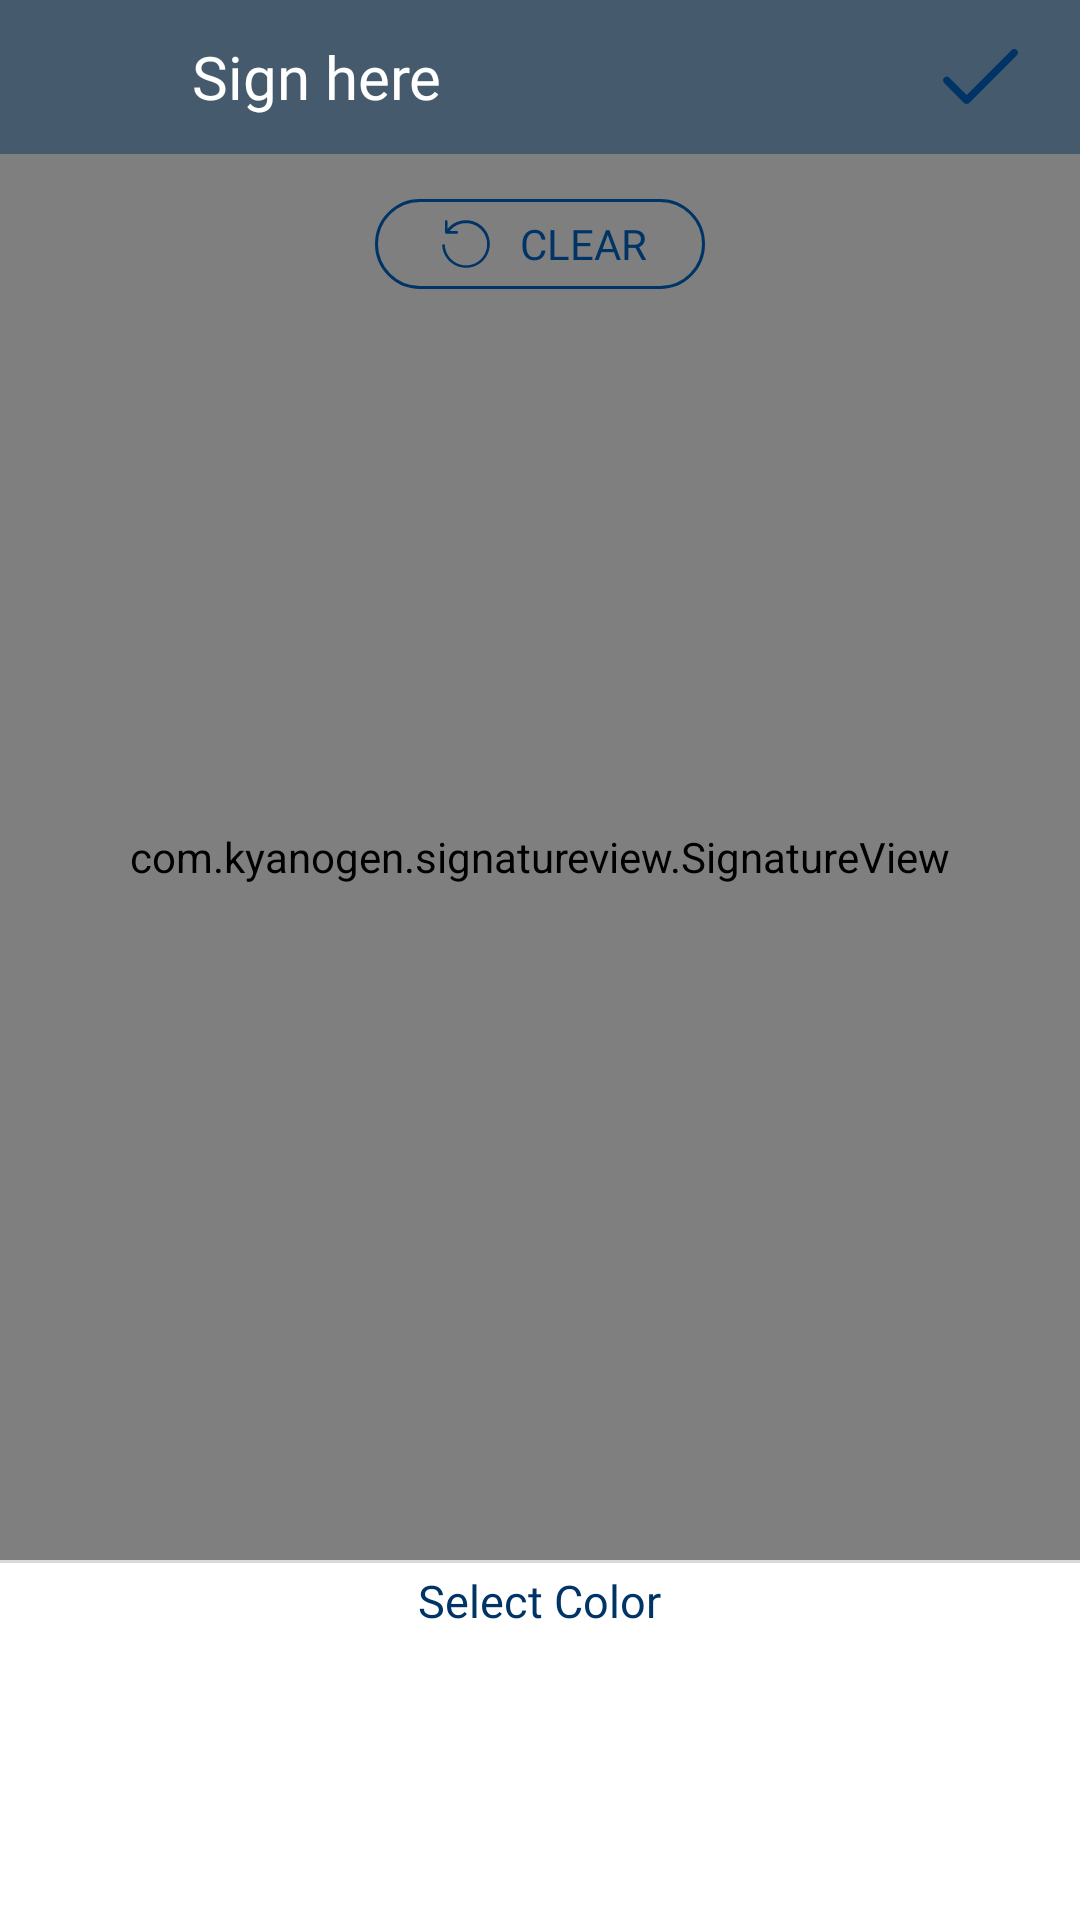

Screen size 1080*1920. Icon name, then its center in pixels as (x,y):
done: (980,76)
rotate: (466,244)
